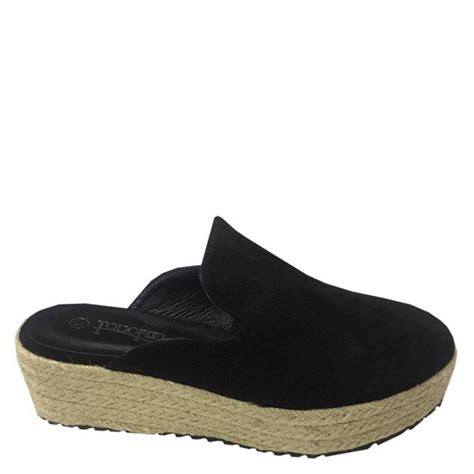gamuza: (106, 216, 454, 412)
